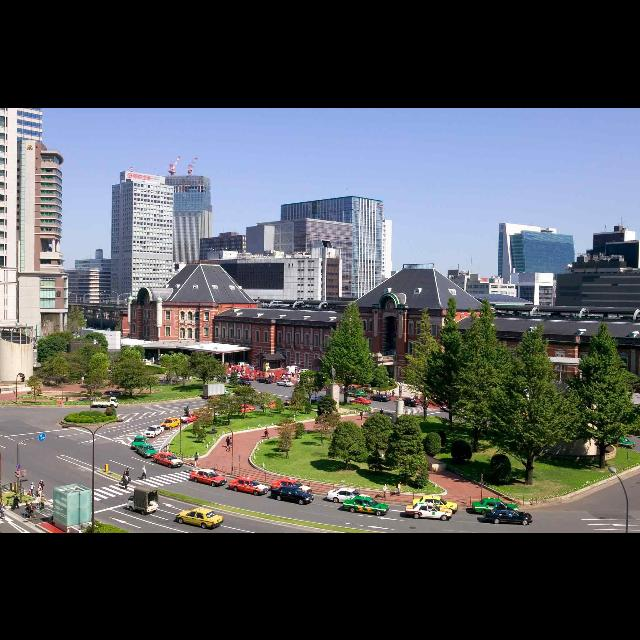head: (30, 502, 32, 506), (42, 495, 46, 497), (124, 471, 126, 474), (399, 481, 401, 484), (3, 506, 5, 508), (2, 500, 4, 502), (14, 494, 16, 496), (26, 502, 28, 504), (38, 495, 40, 497), (39, 484, 41, 486), (41, 480, 43, 482), (32, 483, 34, 485), (125, 475, 127, 477), (127, 468, 129, 470), (143, 465, 145, 467), (196, 452, 198, 454), (227, 436, 229, 438), (230, 437, 232, 439), (360, 409, 362, 411), (385, 484, 387, 486), (381, 410, 382, 410), (394, 390, 394, 390)
person: (12, 493, 21, 511), (22, 500, 30, 518), (28, 502, 36, 520), (40, 494, 48, 511), (38, 479, 46, 496), (27, 482, 35, 498), (139, 464, 147, 480), (35, 494, 41, 510), (37, 483, 43, 499), (121, 470, 127, 486), (382, 482, 388, 498), (396, 480, 402, 496), (0, 506, 6, 520), (125, 468, 131, 482), (194, 452, 200, 466), (124, 474, 128, 491), (0, 499, 4, 513), (226, 436, 230, 448), (229, 437, 233, 449), (359, 410, 363, 420), (392, 389, 396, 397), (380, 408, 382, 416)
